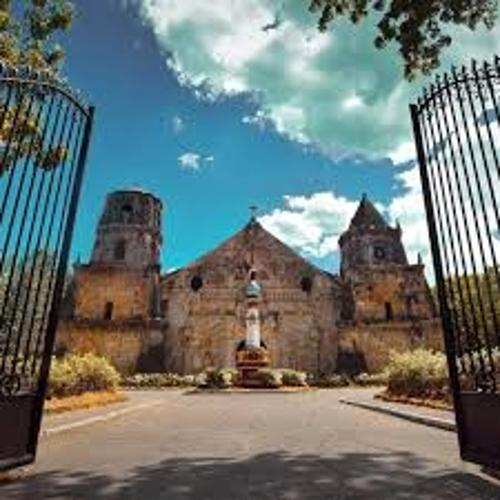Miagao Church: (60, 167, 459, 393)
